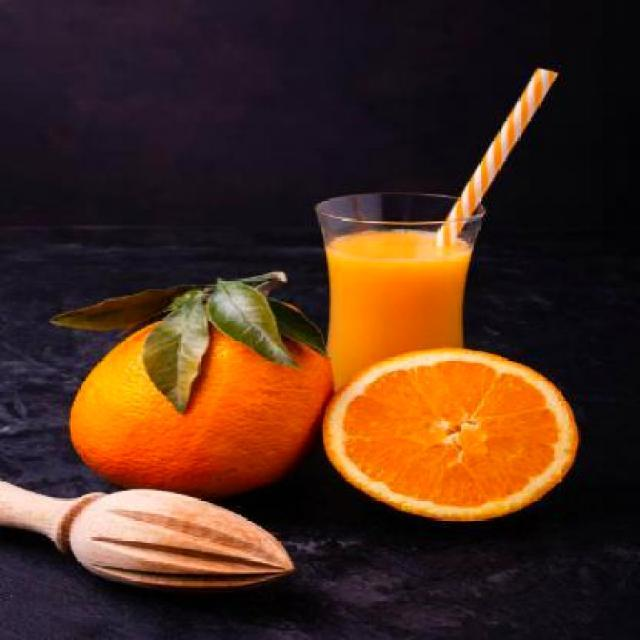Jeruk Sudah Matang: (67, 312, 340, 510)
